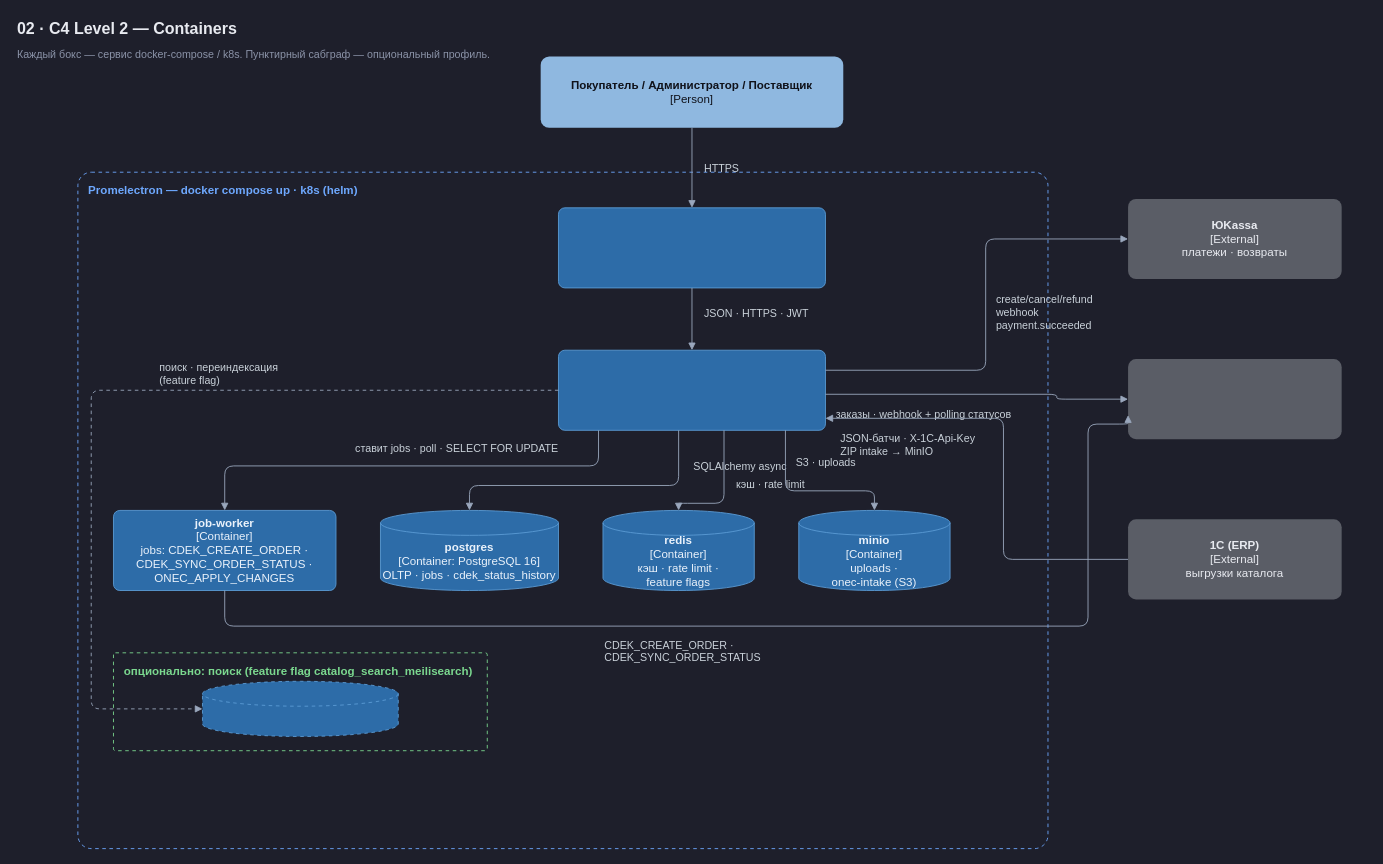
Image size: 1383x864. Some labels were removed from this diagram. Each missing label, with the centre of its shape:
"api — FastAPI [Container] REST /api/v1 · WebSocket /ws/notifications" belongs at (691,389).
"CDEK API [External] заказы · статусы" belongs at (1234,399).
"frontend — Vue 3 SPA + nginx [Container] веб-UI · localStorage гостевой корзины" belongs at (691,247).
"meilisearch [Container] поиск и фасеты каталога" belongs at (300,708).
